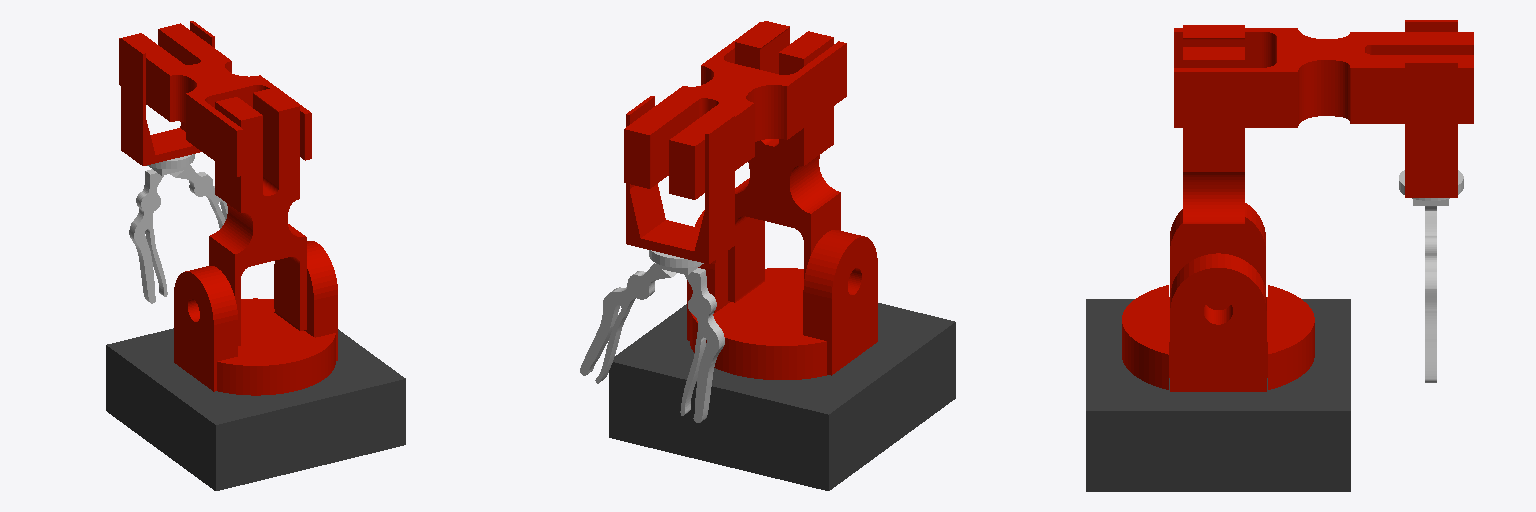
URDF robot description (visual):
<?xml version="1.0"?>
<robot name="visual">

  <material name="gray">
    <color rgba="0.3 0.3 0.3 1"/>
  </material>
  <material name="orange">
    <color rgba="0.8 0.084 0 1"/>
  </material>
  <material name="white">
    <color rgba="0.8 0.8 0.8 1"/>
  </material>

  <link name="base_link">
    <visual>
      <geometry>
        <box size="0.15 0.15 .05"/>
      </geometry>
      <material name="gray"/> 
      <origin rpy="0 0 0" xyz="0 0 -0.025"/>
    </visual>
  </link>

  <link name="link1">
    <visual>
      <geometry>
        <mesh filename="package://braccio_description/meshes/base.stl"/>
      </geometry>
      <material name="orange"/> 
    </visual>
  </link>

  <link name="link2">
    <visual>
      <geometry>
        <mesh filename="package://braccio_description/meshes/shoulder.stl"/>
      </geometry>
      <material name="orange"/>
      <origin rpy="0 0 0" xyz="0 0 -0.0505"/> 
    </visual>
  </link>

  <link name="link3">
    <visual>
      <geometry>
        <mesh filename="package://braccio_description/meshes/elbow.stl"/>
      </geometry>
      <material name="orange"/>
      <origin rpy="0 0 0" xyz="0 0 -0.1705"/> 
    </visual>
  </link>

  <link name="link4">
    <visual>
      <geometry>
        <mesh filename="package://braccio_description/meshes/wrist_pitch.stl"/>
      </geometry>
      <material name="orange"/>
      <origin rpy="0 0 0" xyz="0 0 -0.2905"/> 
    </visual>
  </link>
  
  <link name="link5">
    <visual>
      <geometry>
        <mesh filename="package://braccio_description/meshes/wrist_roll.stl"/>
      </geometry>
      <material name="white"/>
      <origin rpy="0 0 0" xyz="0 0 -0.3505"/> 
    </visual>
  </link>

  <link name="gripper_base">
    <visual>
      <geometry>
        <mesh filename="package://braccio_description/meshes/gripper_base.stl"/>
      </geometry>
      <material name="white"/>
      <origin rpy="0 0 0" xyz="0 0 -0.357"/> 
    </visual>
  </link>

  <link name="gripper_fix">
    <visual>
      <geometry>
        <mesh filename="package://braccio_description/meshes/gripper_fix.stl"/>
      </geometry>
      <material name="white"/>
      <origin rpy="0 0 0" xyz="0 0 -0.36399"/> 
    </visual>
  </link>

  <link name="gripper_movable">
    <visual>
      <geometry>
        <mesh filename="package://braccio_description/meshes/gripper_movable.stl"/>
      </geometry>
      <material name="white"/>
      <origin rpy="0 0 0" xyz="-0.01559 0 -0.36399"/> 
    </visual>
  </link>

  <joint name="base" type="revolute">
    <axis xyz="0 0 -1"/>
    <limit effort="1000.0" lower="0.0" upper="3.141592653589793" velocity="4.0"/>
    <origin rpy="0 0 0" xyz="0 0 0"/>
    <parent link="base_link"/>
    <child link="link1"/>
  </joint>

  <joint name="shoulder" type="revolute">
    <axis xyz="1 0 0"/>
    <limit effort="1000.0" lower="0.2617993877991494" upper="2.8797932657906435" velocity="4.0"/>
    <origin rpy="-1.5707963267948966 0 0" xyz="0 0 0.0505"/>   
    <parent link="link1"/>
    <child link="link2"/>
  </joint>

   <joint name="elbow" type="revolute">
    <axis xyz="1 0 0"/>
    <limit effort="1000.0" lower="0" upper="3.141592653589793" velocity="4.0"/>
    <origin rpy="-1.5707963267948966 0 0" xyz="0 0 0.1205"/>
    <parent link="link2"/>
    <child link="link3"/>
  </joint>

  <joint name="wrist_pitch" type="revolute">
    <axis xyz="1 0 0"/>
    <limit effort="1000.0" lower="0" upper="3.141592653589793" velocity="4.0"/>
    <origin rpy="-1.5707963267948966 0 0" xyz="0 0 0.1205"/>
    <parent link="link3"/>
    <child link="link4"/>
  </joint>

  <joint name="wrist_roll" type="revolute">
    <axis xyz="0 0 -1"/>
    <limit effort="1000.0" lower="0.0" upper="3.141592653589793" velocity="4.0"/>
    <origin rpy="0 0 0" xyz="0 0.0 0.06"/>
    <parent link="link4"/>
    <child link="link5"/>
  </joint>

  <joint name="gripper_base" type="fixed">
    <origin rpy="0 0 0" xyz="0 0.0 0.0065"/>
    <parent link="link5"/>
    <child link="gripper_base"/>
  </joint>

  <joint name="gripper_fix" type="fixed">
    <origin rpy="0 0 0" xyz="0 0.0 0.007"/>
    <parent link="gripper_base"/>
    <child link="gripper_fix"/>
  </joint>

  <joint name="gripper_movable" type="revolute">
    <axis xyz="0 -1 0"/>
    <limit effort="1000.0" lower="0.17453292519943295" upper="1.2740903539558606" velocity="4.0"/>
    <origin rpy="0 0 0" xyz="0.01559 0 0.007"/>
    <parent link="gripper_base"/>
    <child link="gripper_movable"/>
  </joint>
  
</robot>

--- What the picture shows (computed from the rendered views, not written in the file) ---
3 views of the same robot in one strip: view 1: azimuth 30°, elevation 25°; view 2: azimuth 150°, elevation 25°; view 3: azimuth 270°, elevation 25° (orthographic).
Model visual with 9 links and 8 joints (6 revolute, 2 fixed), rooted at base_link, posed joints at zero except 2 at the middle of their limits (shoulder = 1.57, gripper_movable = 0.7243).
Links seen in each view (by area): view 1: base_link, link1, link2, link3, link4, gripper_fix, gripper_movable; view 2: base_link, link1, link3, link2, link4, gripper_fix, gripper_movable; view 3: base_link, link1, link3, link2, link4, gripper_movable.
Link boxes in pixels (<box>): base_link: <box>106,328,405,490</box>; link1: <box>174,241,337,395</box>; link2: <box>209,88,306,345</box>; link3: <box>119,23,311,176</box>; link4: <box>121,21,214,165</box>; gripper_fix: <box>129,169,167,303</box>; gripper_movable: <box>170,165,227,228</box>; base_link: <box>609,303,955,490</box>; link1: <box>687,210,877,379</box>; link3: <box>624,22,846,199</box>; link2: <box>728,21,840,302</box>; link4: <box>626,96,734,263</box>; gripper_fix: <box>680,268,724,422</box>; gripper_movable: <box>580,263,676,383</box>; base_link: <box>1086,299,1350,491</box>; link1: <box>1122,203,1314,391</box>; link3: <box>1174,28,1473,127</box>; link2: <box>1183,25,1244,309</box>; link4: <box>1405,20,1457,197</box>; gripper_movable: <box>1425,211,1436,382</box>.
Bounding box of the posed robot: 0.15 × 0.2198 × 0.246 m (x, y, z).
8 mesh visuals loaded from 8 distinct referenced files (8 binary STL).